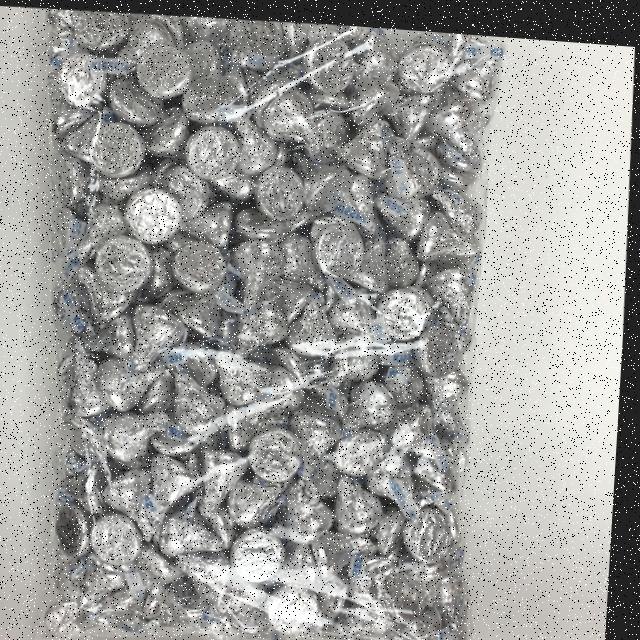kisses: (125, 297, 193, 381), (230, 230, 296, 314), (284, 398, 349, 480), (100, 400, 176, 468), (96, 347, 173, 414), (51, 44, 119, 117), (102, 462, 165, 538), (411, 197, 484, 261), (262, 81, 325, 154), (149, 447, 208, 522), (171, 364, 235, 433), (317, 517, 385, 581), (288, 283, 345, 358), (374, 274, 438, 340), (169, 228, 233, 294), (348, 48, 401, 127), (88, 113, 152, 177), (92, 232, 160, 292), (369, 445, 428, 514), (233, 520, 296, 584), (403, 489, 461, 558), (127, 181, 188, 246), (179, 66, 245, 126), (301, 29, 360, 96), (335, 373, 401, 432), (134, 538, 201, 596), (232, 468, 294, 530), (426, 90, 481, 159), (182, 119, 243, 181), (215, 343, 279, 402), (166, 503, 231, 559), (337, 463, 391, 530), (225, 14, 286, 72), (257, 155, 312, 219), (92, 509, 153, 565), (135, 40, 193, 98), (108, 68, 165, 126), (395, 34, 454, 89), (412, 311, 464, 372), (398, 400, 451, 459), (317, 213, 368, 273), (70, 8, 132, 57), (391, 135, 437, 192)
